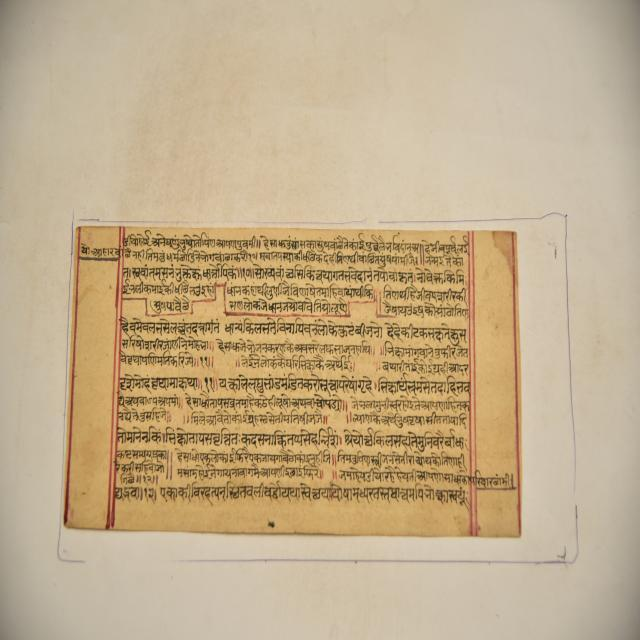text_paragraph: (65, 225, 521, 534)
